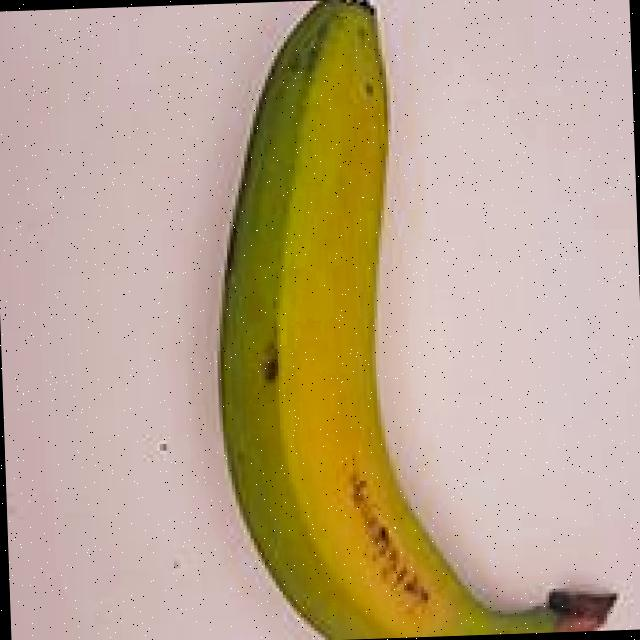Unripe: (134, 0, 631, 640)
